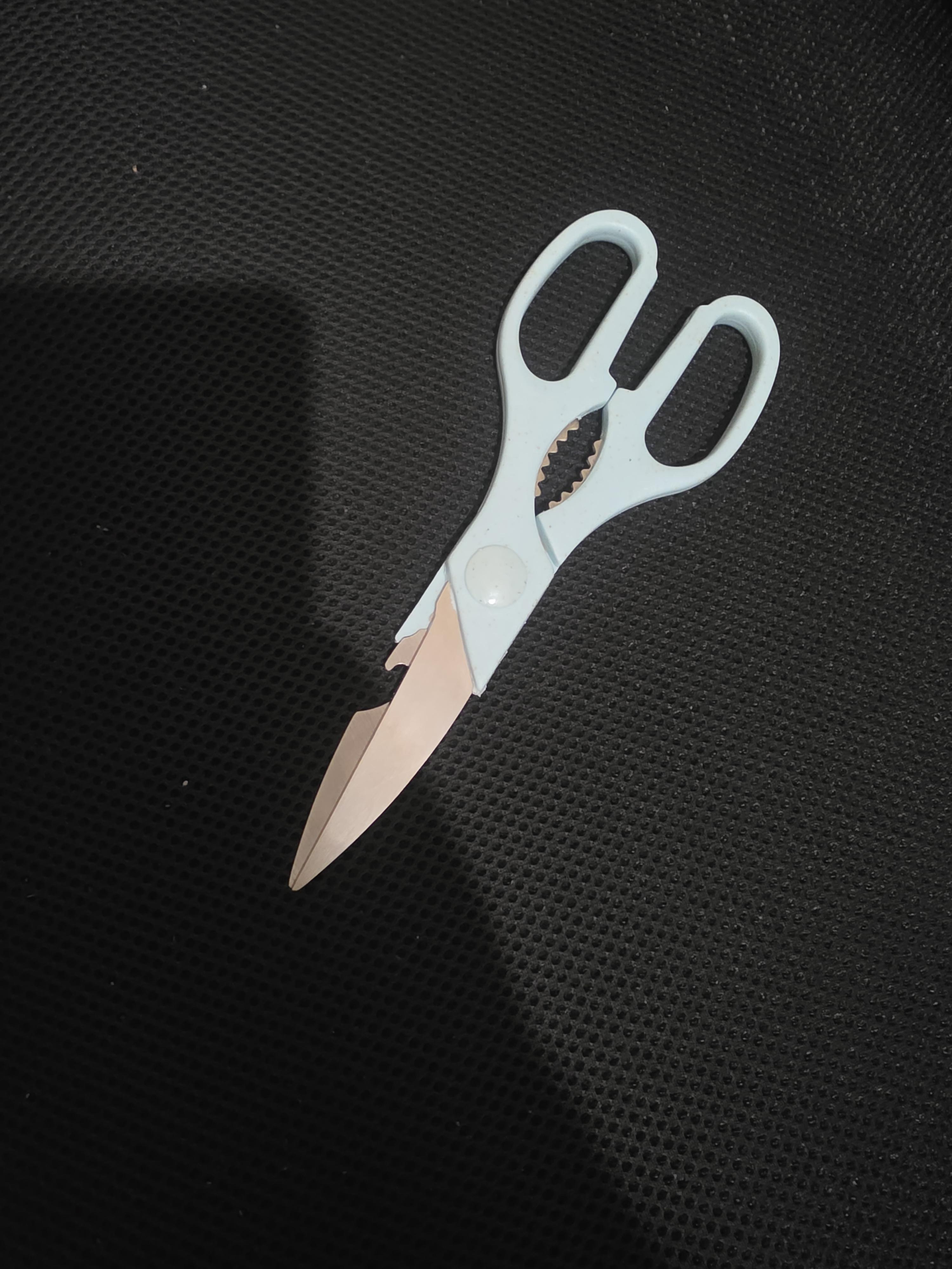scissors: (288, 208, 781, 892)
